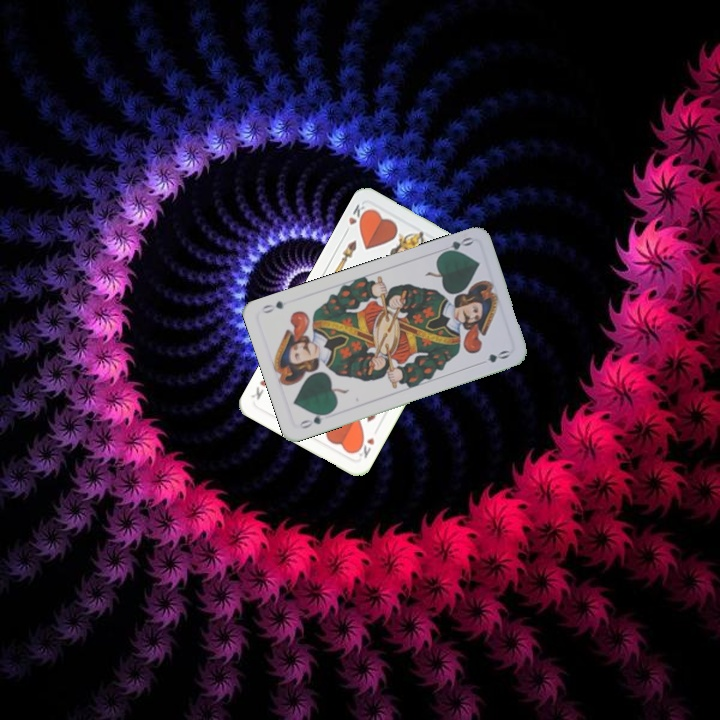GO: (435, 233, 475, 258), (295, 408, 333, 431)
HK: (340, 200, 371, 237), (352, 433, 377, 461)
